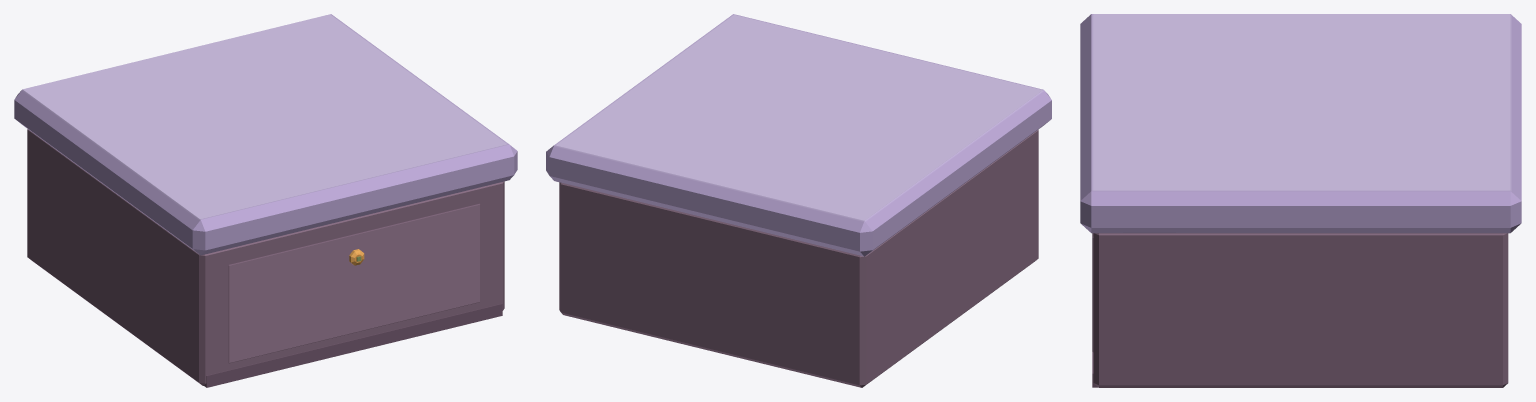
Rendered from ChoppingBoard.fbx.
The picture shows the model from 3 angles, left to right: view 1: azimuth 30°, elevation 25°; view 2: azimuth 150°, elevation 25°; view 3: azimuth 270°, elevation 25°; orthographic projection. The views are drawn at different scales.
Parts seen in each view (by area): view 1: ChoppingBoard; view 2: ChoppingBoard; view 3: ChoppingBoard.
Boxes of the visible parts, bbox=[...] form: ChoppingBoard: bbox=[14, 14, 517, 387]; ChoppingBoard: bbox=[546, 14, 1051, 387]; ChoppingBoard: bbox=[1080, 14, 1521, 387].
Bounding box in the file's own units: 400 × 200 × 400.
1 material, 1 textured.
